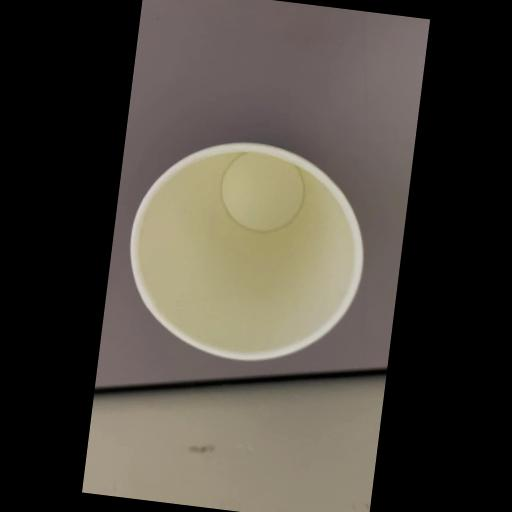lp_paper_cup: (115, 130, 378, 376)
